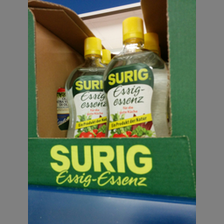vinegar: (107, 17, 167, 137), (66, 33, 108, 138)
